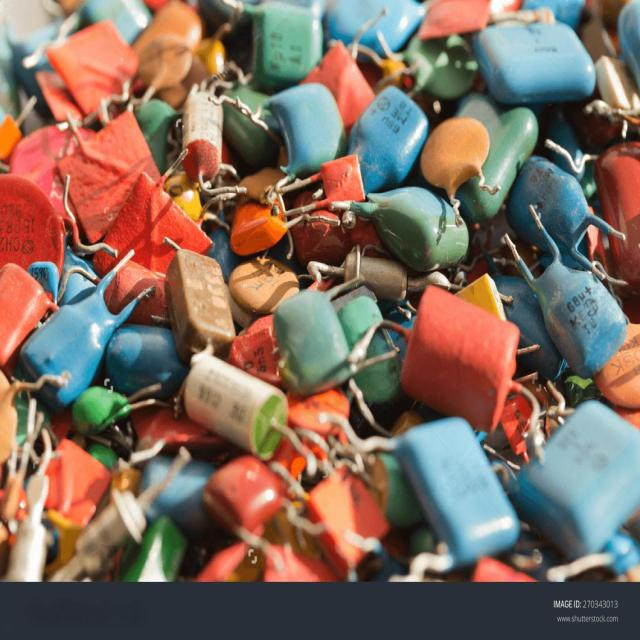Capacitors: (402, 286, 520, 435), (15, 285, 134, 414), (178, 355, 289, 463), (271, 289, 353, 398), (165, 249, 238, 368)
